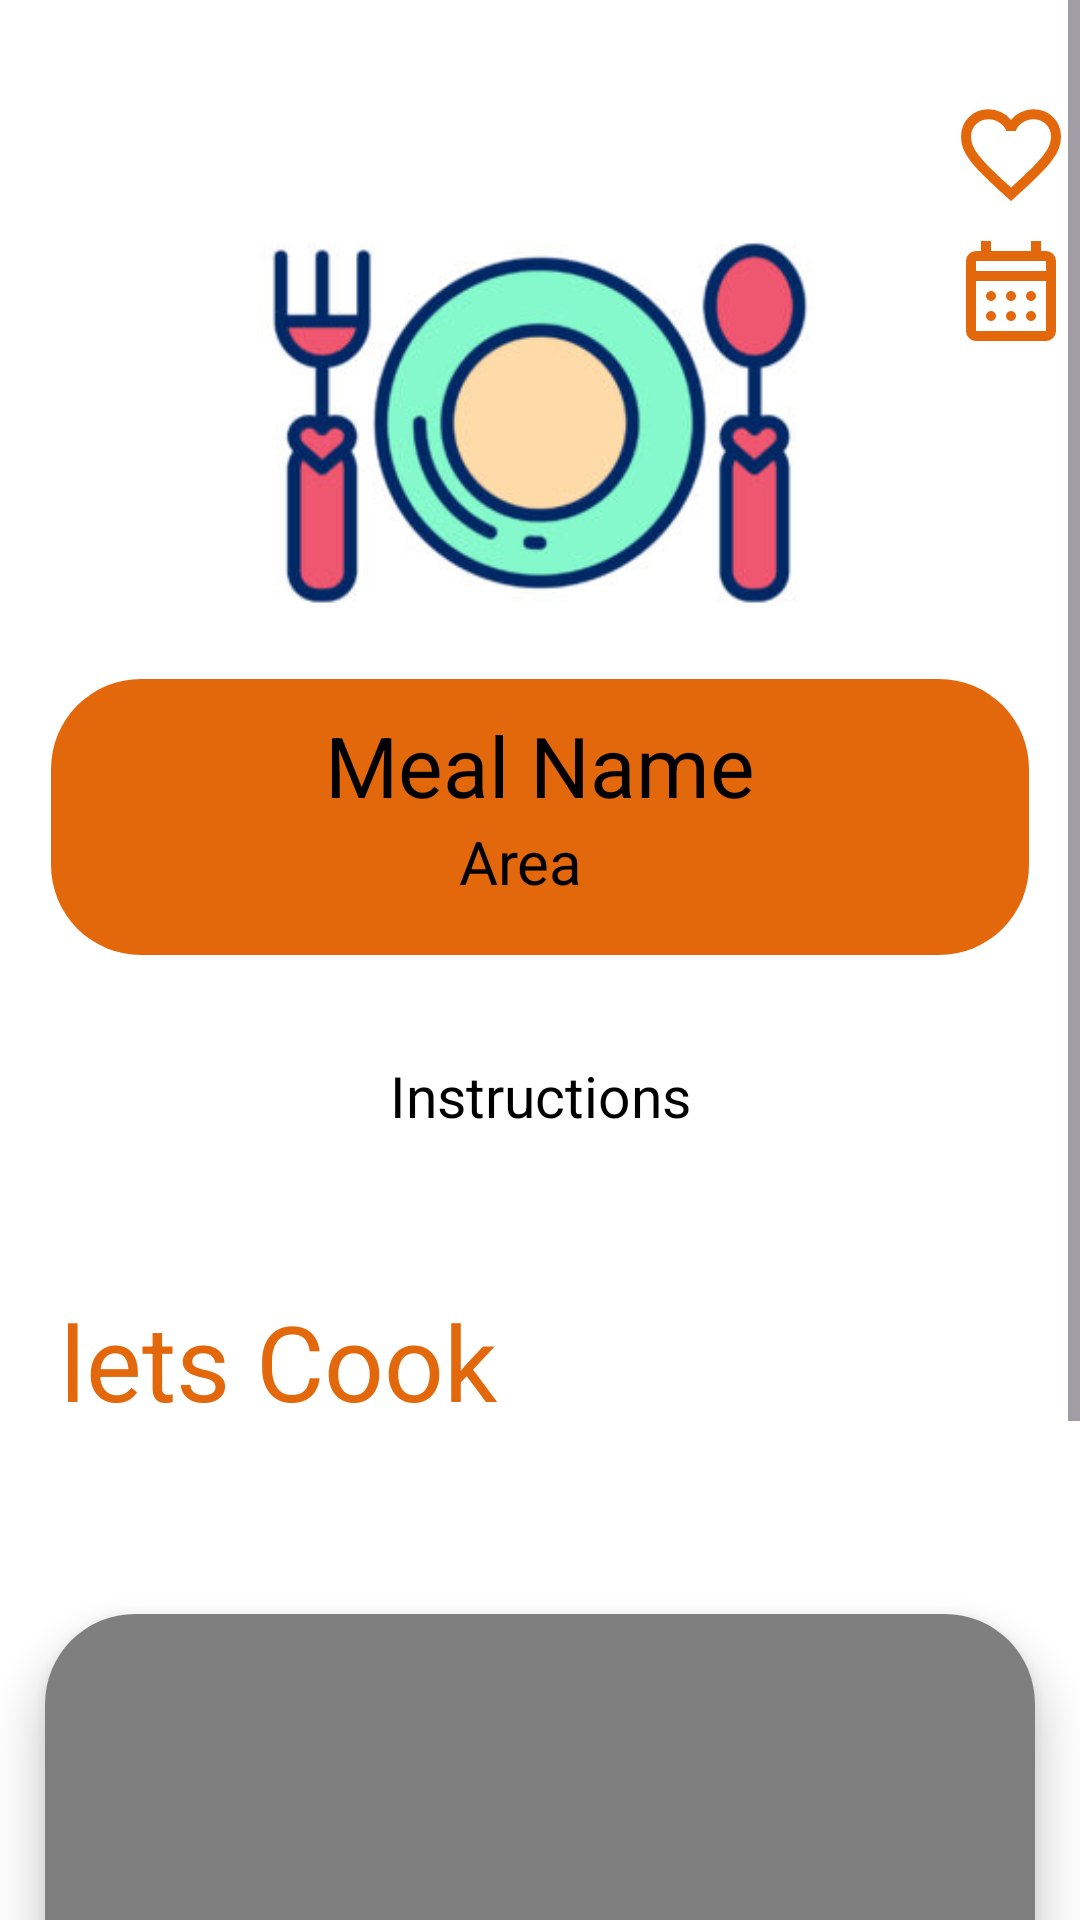

Icon click points for this 1080px×1920px phone screenshot, format (x,y):
calendar: (1011,291)
favorite: (1011,155)
